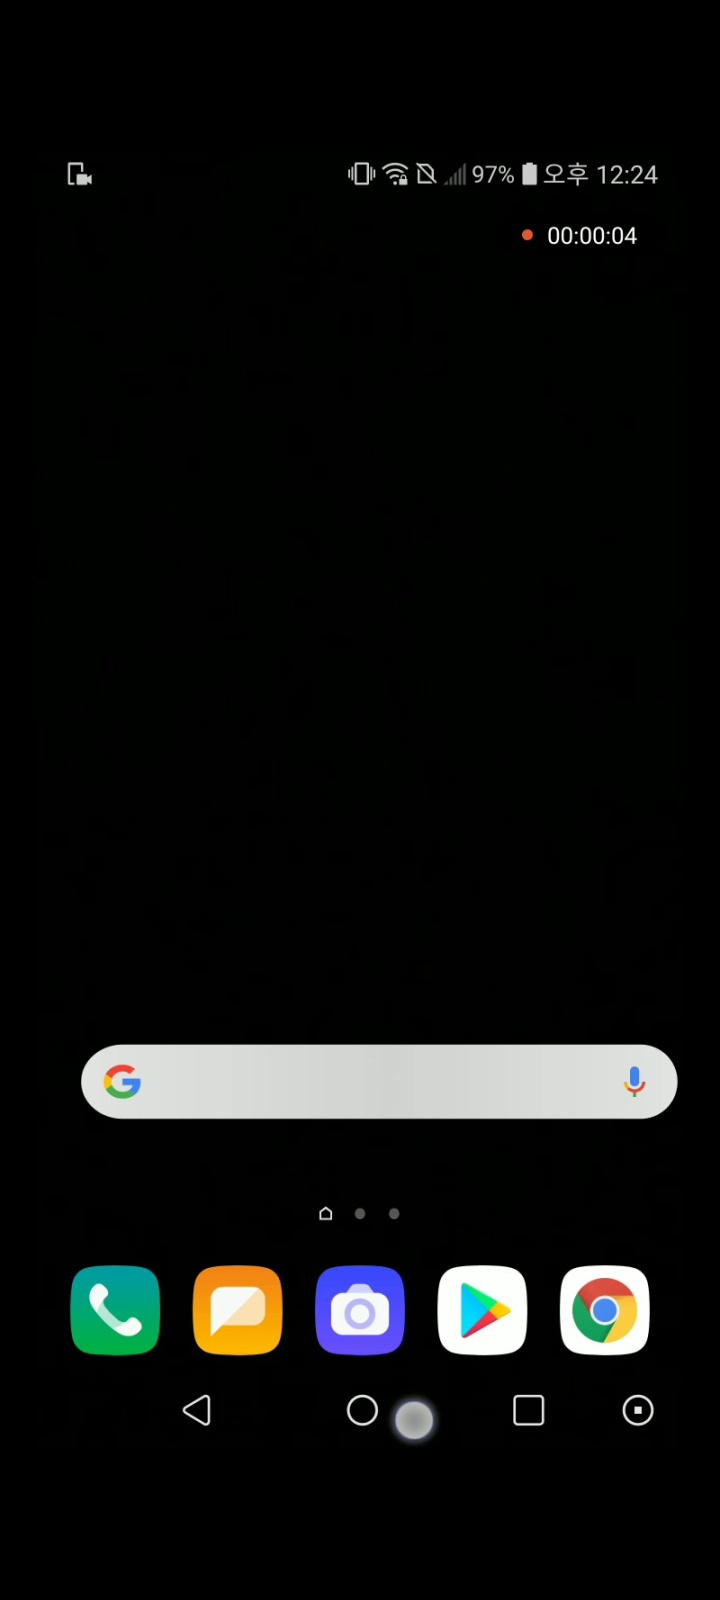Cursor: (394, 1399, 439, 1444)
